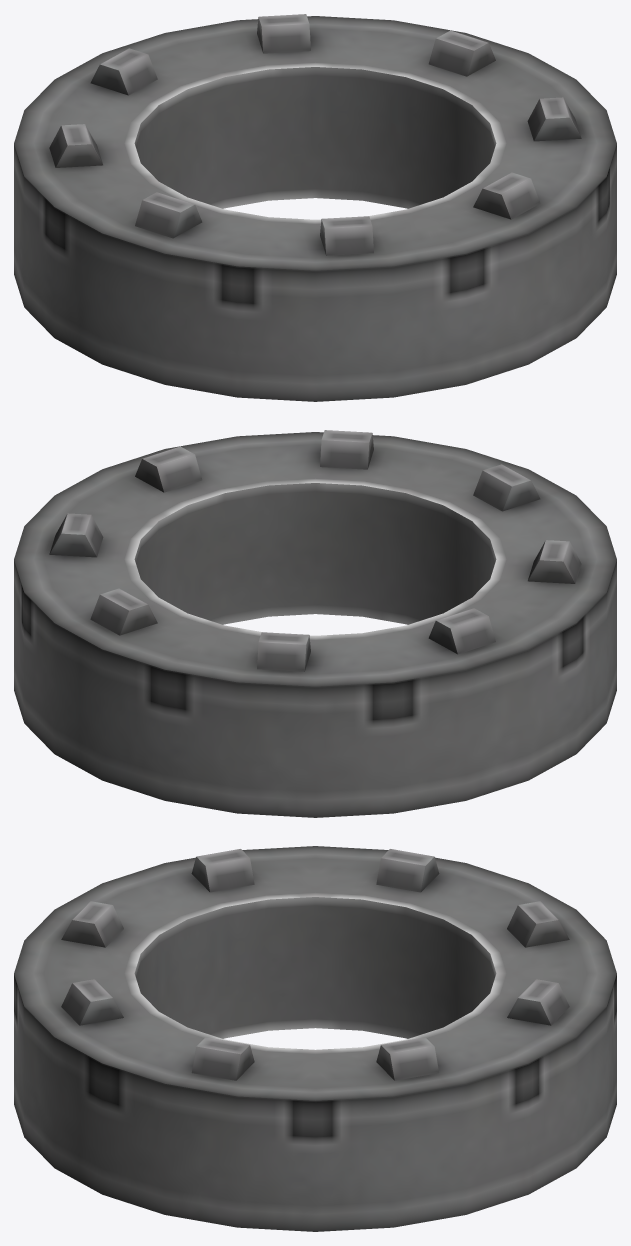
Rendered from decoupler_s00.obj.
3 renders of one model, top to bottom at view 1: azimuth 30°, elevation 25°; view 2: azimuth 150°, elevation 25°; view 3: azimuth 270°, elevation 25°, orthographic.
Parts seen in each view (by area): view 1: 1; view 2: 1; view 3: 1.
Part boxes in pixels (box(x1,y1,x2,y2)): 1: box(14, 14, 616, 401); 1: box(14, 430, 616, 817); 1: box(14, 846, 616, 1231).
Size of the model in its own units: 0.3125 by 0.0875 by 0.3125.
1 material, 1 textured.
